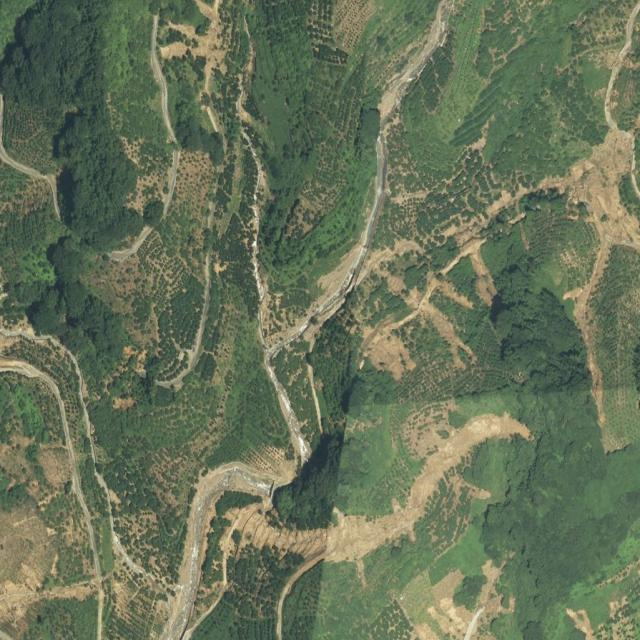landslide: (190, 2, 640, 640)
